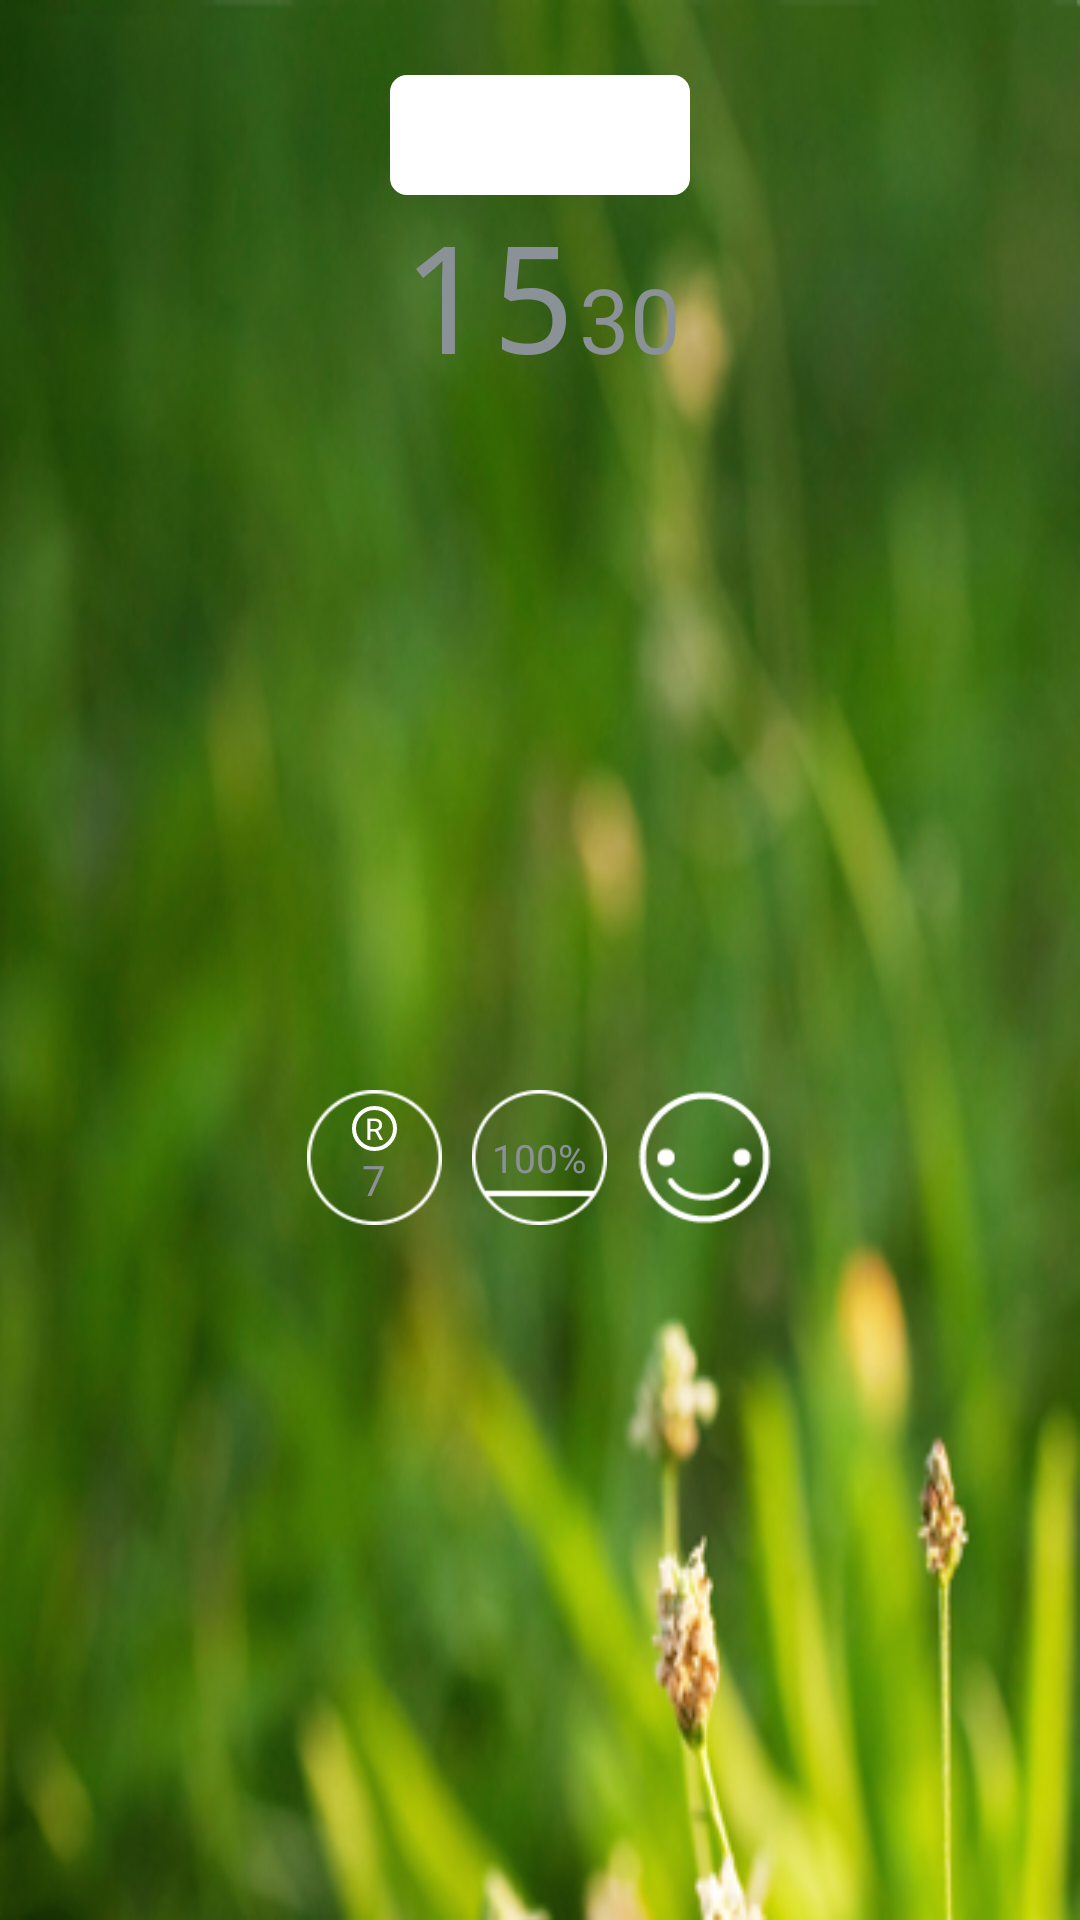

Where to tap for icons on this 1080x1920 app screen, as (x,y):
faces happy: (705,1157)
